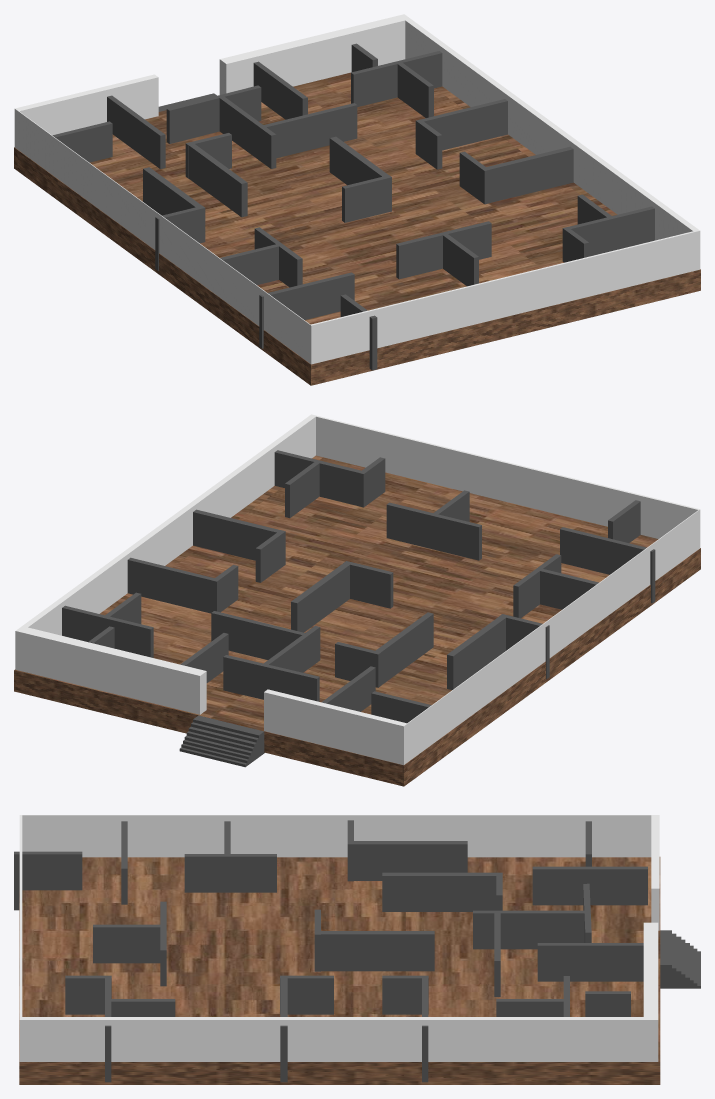
File: maze made by me1.glb
3 views of the same model, one above another, from view 1: azimuth 30°, elevation 25°; view 2: azimuth 150°, elevation 25°; view 3: azimuth 270°, elevation 25° (orthographic). The views are drawn at different scales.
Visible parts, largest first — view 1: -col.001, -col.024, -col.012, -col.011, -col.013, -col.019, -col.014, -col.006, -col, -col.023, -col.015, -col.003 (+11 smaller); view 2: -col.001, -col.024, -col.011, -col.013, -col.012, -col.023, -col.014, -col.019, -col.015, Cube, -col, -col.021 (+12 smaller); view 3: -col.001, -col.024, -col.013, -col.014, -col.007, -col.015, -col.002, -col.005, -col.016, -col.020, -col.022, -col.012 (+10 smaller).
Boxes of the visible parts, box(x1,y1,x2,y2) form: -col.001: box(14, 72, 700, 385); -col.024: box(14, 14, 700, 364); -col.012: box(459, 146, 573, 204); -col.011: box(415, 99, 507, 169); -col.013: box(329, 136, 391, 222); -col.019: box(562, 206, 654, 262); -col.014: box(185, 133, 247, 217); -col.006: box(264, 103, 357, 158); -col: box(166, 85, 261, 143); -col.023: box(396, 221, 491, 279); -col.015: box(143, 167, 205, 270); -col.003: box(351, 51, 442, 106); -col.001: box(14, 455, 700, 786); -col.024: box(15, 414, 700, 764); -col.011: box(127, 557, 238, 613); -col.013: box(291, 561, 393, 632); -col.012: box(193, 509, 285, 582); -col.023: box(386, 502, 481, 560); -col.014: box(335, 612, 433, 687); -col.019: box(274, 450, 385, 507); -col.015: box(447, 614, 549, 689); Cube: box(179, 715, 264, 767); -col: box(223, 655, 319, 701); -col.021: box(560, 527, 655, 603); -col.001: box(19, 857, 660, 1084); -col.024: box(19, 815, 659, 1061); -col.013: box(314, 909, 434, 971); -col.014: box(382, 872, 502, 911); -col.007: box(532, 866, 647, 905); -col.015: box(347, 820, 467, 881); -col.002: box(537, 943, 643, 981); -col.005: box(473, 910, 588, 949); -col.016: box(184, 854, 276, 892); -col.020: box(14, 851, 82, 910); -col.022: box(93, 924, 161, 963); -col.012: box(280, 975, 333, 1082).
Size of what is drawn, in the model's own units: 37.3 by 5.53 by 52.39.
Materials: 3 (1 with a texture image).
